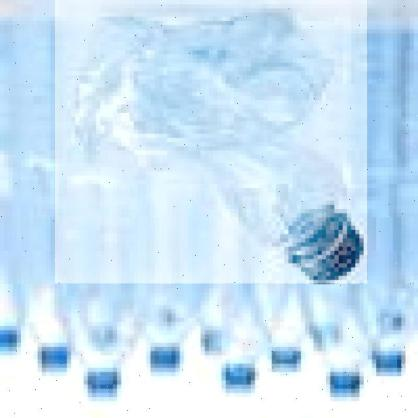bottle: (55, 0, 367, 283)
